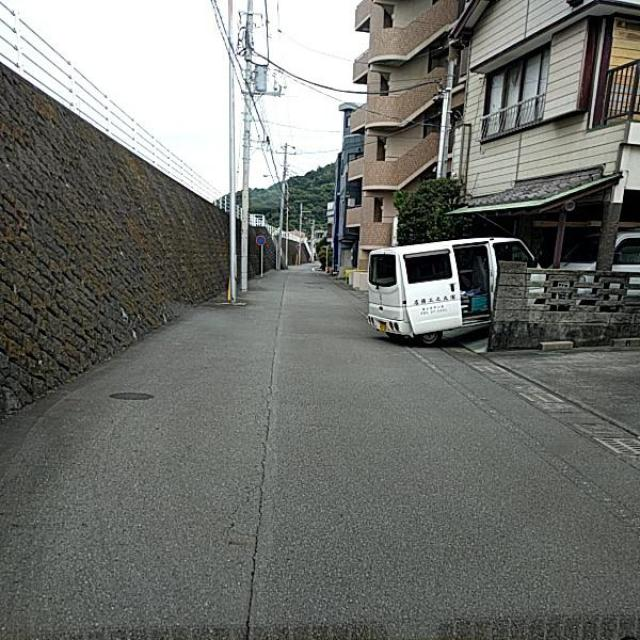Crack: (207, 293, 308, 640)
